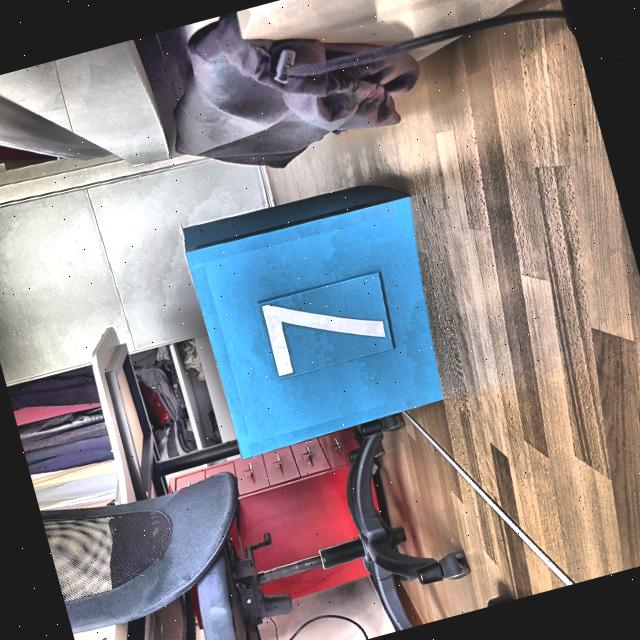blue box: (173, 160, 469, 462)
seven: (249, 266, 399, 388)
